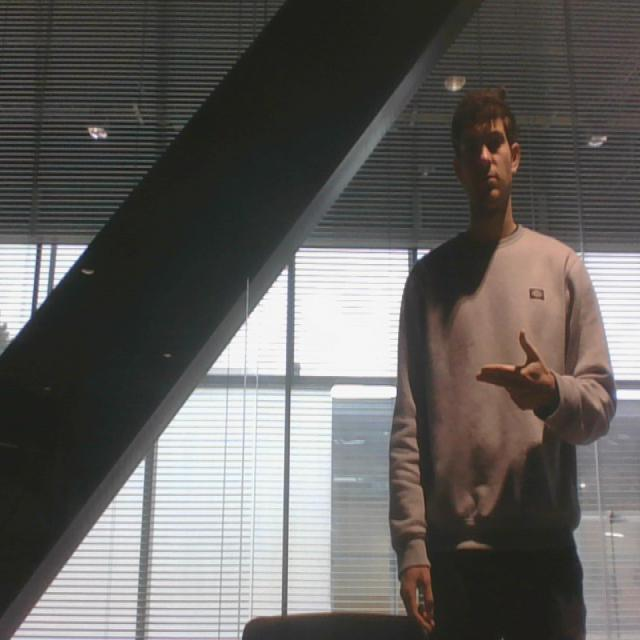left: (473, 326, 558, 420)
